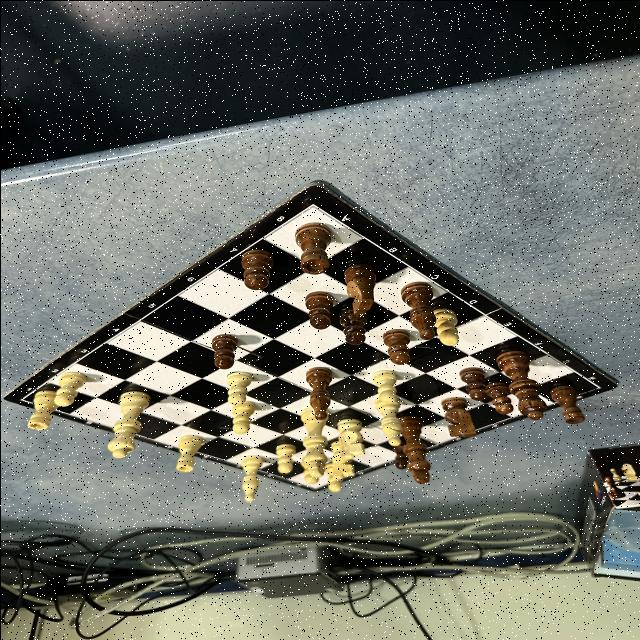Black-Bishop: (400, 282, 436, 340), (306, 366, 332, 420)
Black-King: (398, 416, 431, 484)
Black-Knight: (344, 263, 376, 315), (441, 398, 474, 436)
Black-Pawn: (241, 249, 273, 289), (304, 292, 332, 328), (381, 329, 409, 363), (338, 308, 364, 344), (484, 381, 511, 415), (458, 368, 486, 400), (212, 334, 236, 368), (394, 444, 407, 468)
Black-Queen: (495, 350, 546, 420)
Black-Rook: (294, 223, 332, 273), (550, 386, 582, 424)
White-Bishop: (374, 400, 401, 445), (240, 456, 262, 500)
White-King: (300, 408, 327, 476)
White-Knight: (336, 418, 364, 458), (331, 442, 352, 478)
White-Pawn: (53, 372, 85, 406), (432, 308, 458, 345), (226, 371, 252, 404), (372, 370, 396, 402), (230, 401, 252, 433), (275, 444, 295, 472), (324, 463, 340, 491), (300, 460, 318, 482)
White-Queen: (106, 391, 150, 456)
White-Rook: (27, 390, 58, 430), (174, 434, 202, 472)
